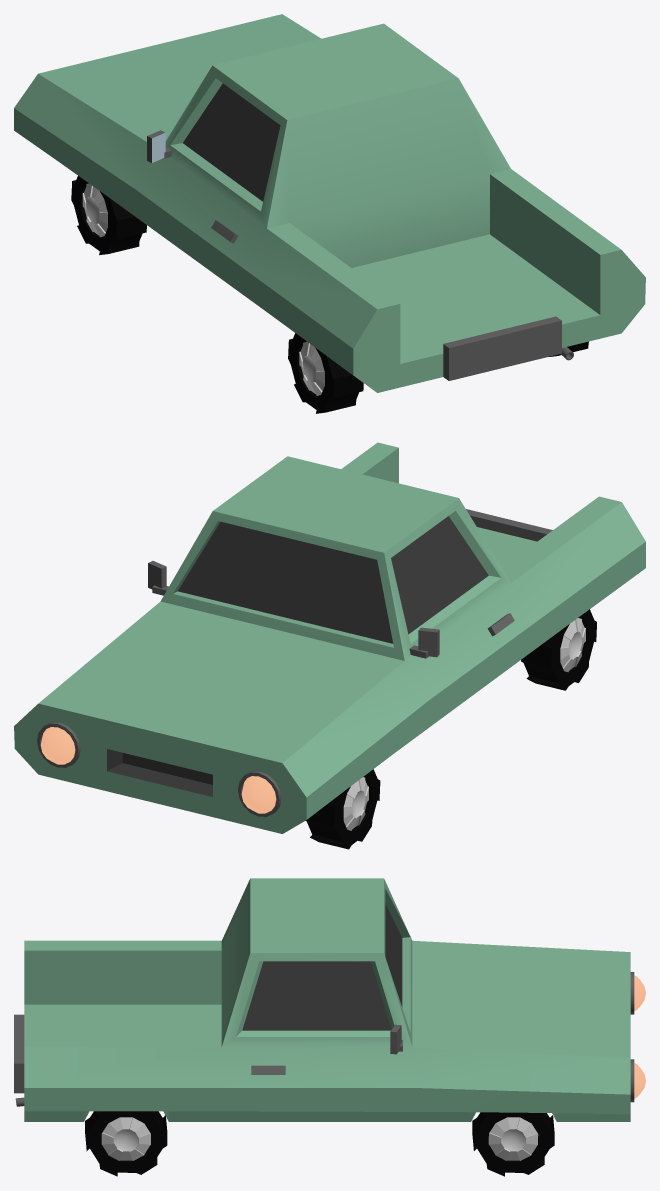
File: Car_Basic_0.glb
The picture shows the model from 3 angles, top to bottom: view 1: azimuth 30°, elevation 25°; view 2: azimuth 150°, elevation 25°; view 3: azimuth 270°, elevation 25°; orthographic projection. The views are drawn at different scales.
Visible parts, largest first — view 1: Cube.5385, Cube.5126, Cylinder.912, Cylinder.401, Cylinder.910, Cylinder.403; view 2: Cube.5385, Cylinder.912, Cylinder.401, Cube.5126, Sphere.368, Sphere.366, Cylinder.910, Cylinder.403, Sphere.365, Sphere.367; view 3: Cube.5385, Cylinder.412, Cylinder.414, Cylinder.413, Cylinder.415, Cube.5126.
Part boxes in pixels (x1=…): Cube.5385: x1=14, y1=14, x2=645, y2=392; Cube.5126: x1=443, y1=316, x2=561, y2=380; Cylinder.912: x1=288, y1=333, x2=363, y2=413; Cylinder.401: x1=71, y1=176, x2=146, y2=255; Cylinder.910: x1=299, y1=341, x2=324, y2=395; Cylinder.403: x1=82, y1=183, x2=107, y2=237; Cube.5385: x1=14, y1=442, x2=645, y2=833; Cylinder.912: x1=521, y1=609, x2=596, y2=690; Cylinder.401: x1=305, y1=769, x2=380, y2=849; Cube.5126: x1=466, y1=509, x2=552, y2=541; Sphere.368: x1=241, y1=776, x2=276, y2=813; Sphere.366: x1=40, y1=727, x2=75, y2=764; Cylinder.910: x1=560, y1=618, x2=585, y2=672; Cylinder.403: x1=343, y1=777, x2=368, y2=830; Sphere.365: x1=37, y1=722, x2=80, y2=767; Sphere.367: x1=238, y1=771, x2=281, y2=816; Cube.5385: x1=24, y1=878, x2=630, y2=1121; Cylinder.412: x1=85, y1=1111, x2=167, y2=1176; Cylinder.414: x1=472, y1=1112, x2=554, y2=1176; Cylinder.413: x1=101, y1=1117, x2=150, y2=1160; Cylinder.415: x1=488, y1=1117, x2=538, y2=1160; Cube.5126: x1=14, y1=1014, x2=24, y2=1093.
Bounding box in the file's own units: 2.08 × 1.55 × 4.35.
